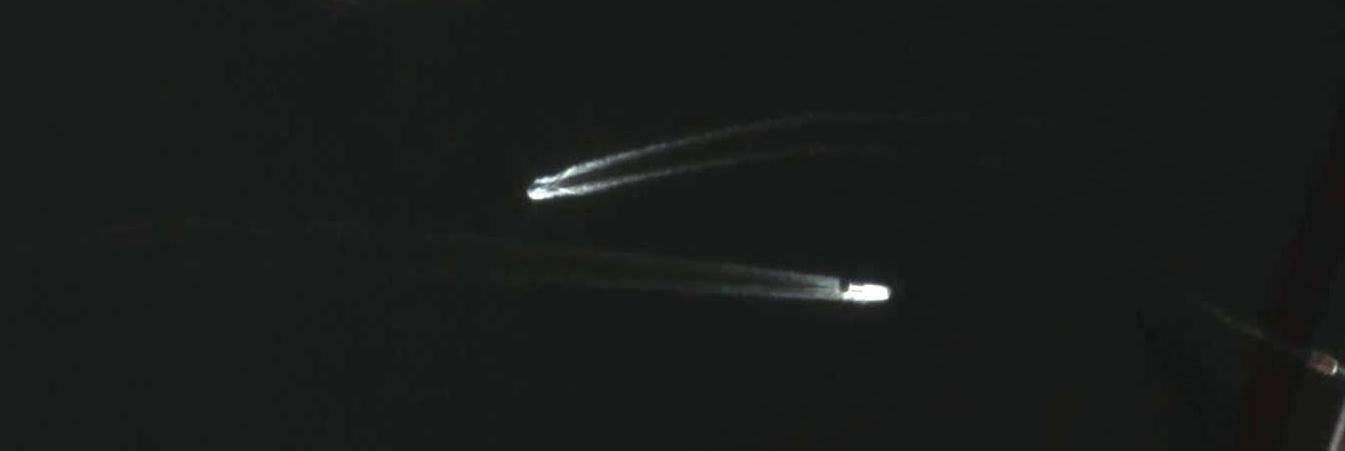person: (848, 284, 890, 301), (1310, 352, 1339, 376), (528, 182, 550, 191)
